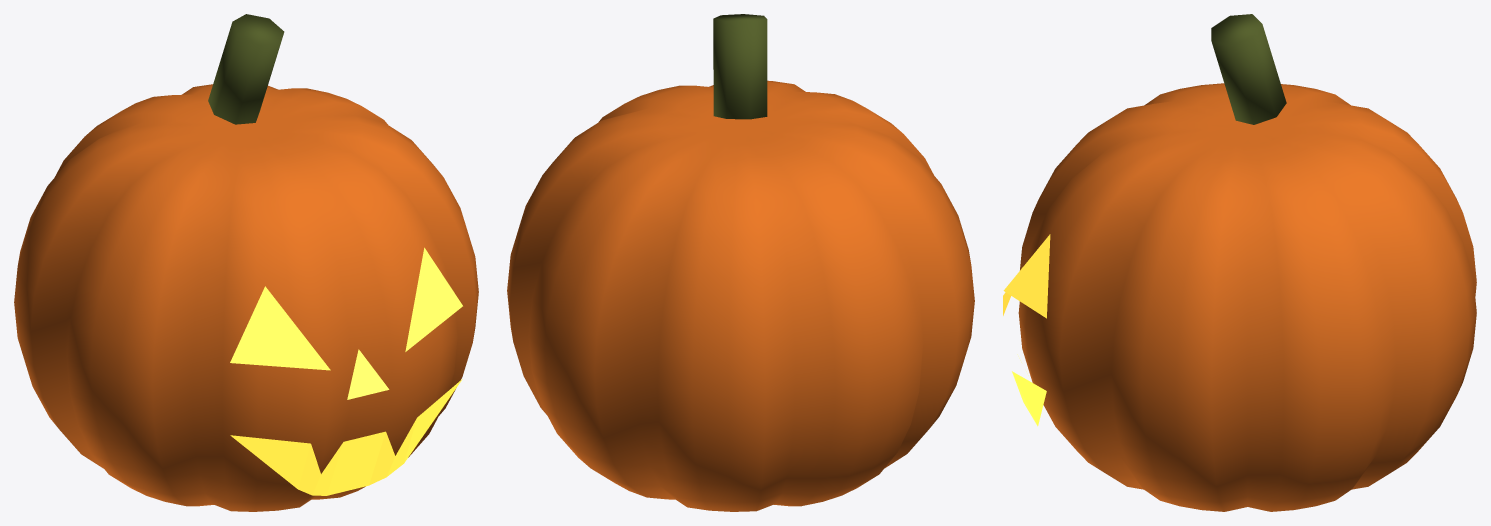
File: jack-o-lantern-1.glb
3 views of the same model, side by side, from view 1: azimuth 30°, elevation 25°; view 2: azimuth 150°, elevation 25°; view 3: azimuth 270°, elevation 25° (orthographic).
Parts seen in each view (by area): view 1: jack-o-lantern; view 2: jack-o-lantern; view 3: jack-o-lantern.
Boxes of the visible parts, bbox=[...] form: jack-o-lantern: bbox=[14, 14, 478, 511]; jack-o-lantern: bbox=[507, 14, 974, 511]; jack-o-lantern: bbox=[1003, 14, 1476, 511].
Size of the model in its own units: 0.7454 by 0.8034 by 0.7707.
